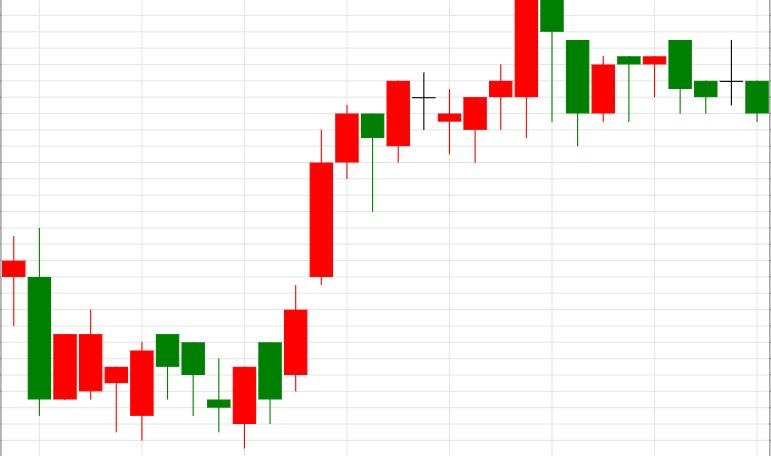hanging_man_fall: (284, 0, 564, 391)
